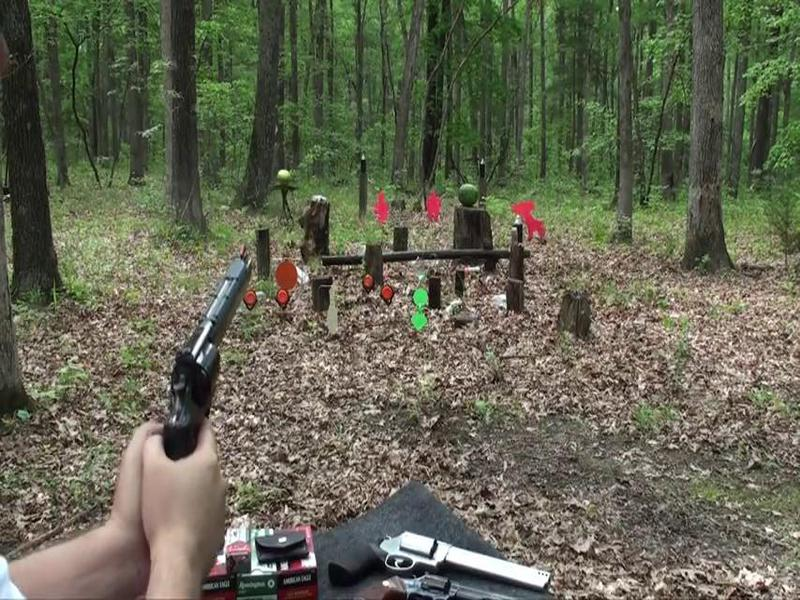Revolver: (147, 250, 271, 478)
